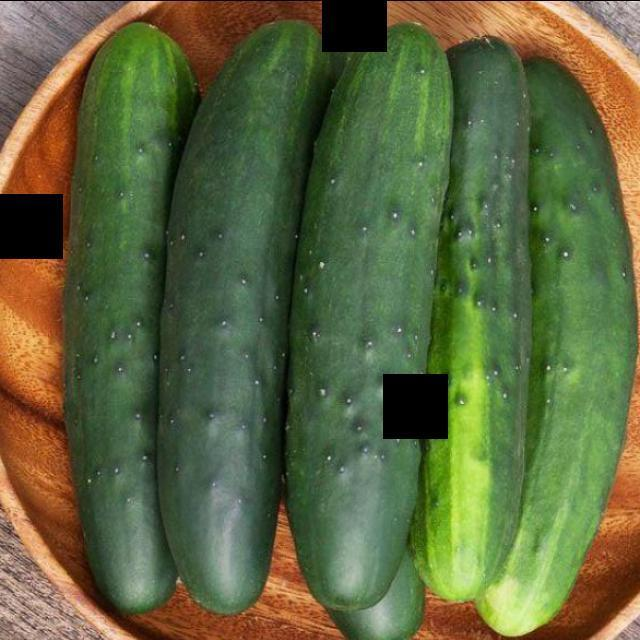cucumber: (158, 13, 330, 632), (294, 9, 450, 620), (486, 11, 638, 634), (419, 9, 533, 606), (62, 19, 174, 612)
